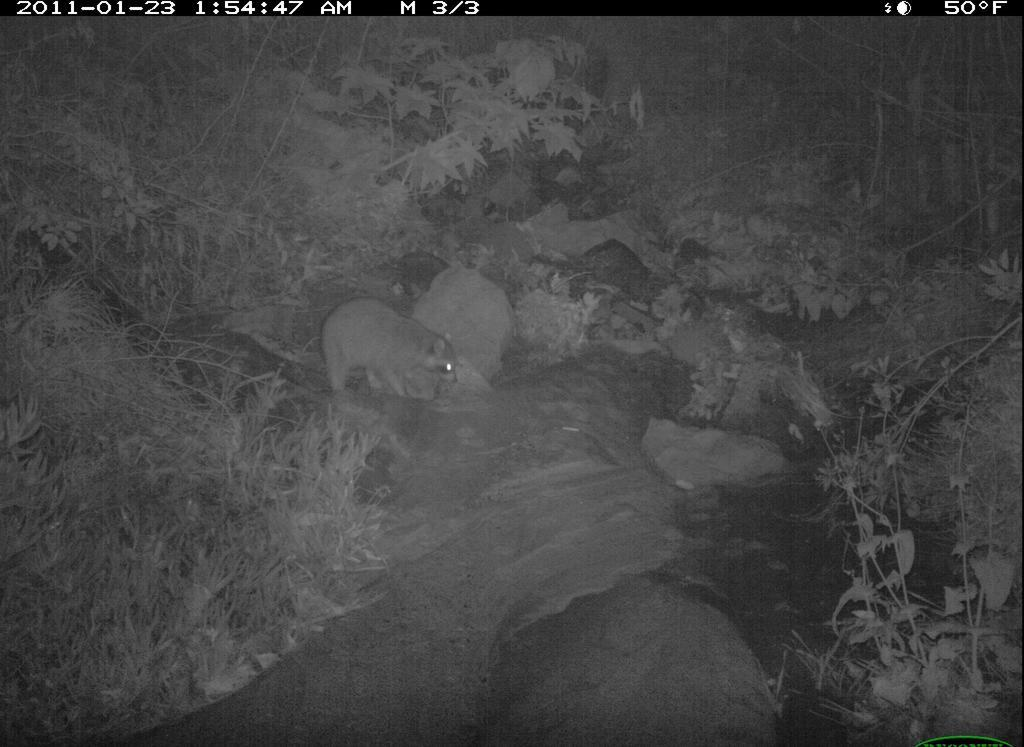raccoon: (319, 283, 463, 411)
